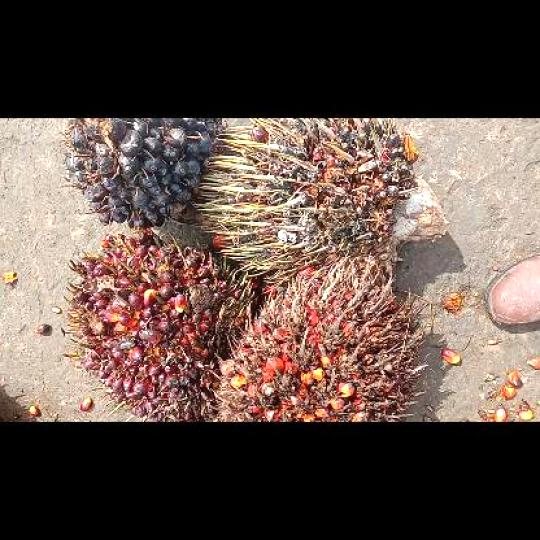masak: (68, 229, 255, 420)
terlalu masak: (212, 256, 429, 422)
